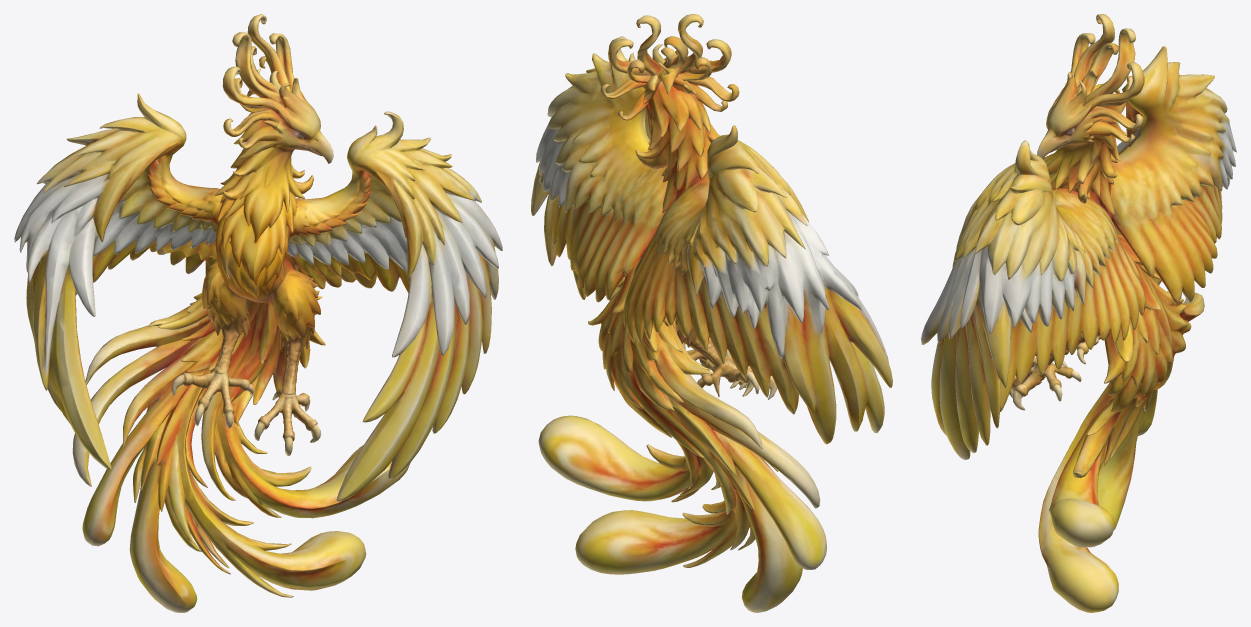
3 views of the same model, side by side, from view 1: azimuth 30°, elevation 25°; view 2: azimuth 150°, elevation 25°; view 3: azimuth 270°, elevation 25° (orthographic). The views are drawn at different scales.
Visible parts, largest first — view 1: Meshy_AI_Silvercrest_Gryphon_20261120_texture; view 2: Meshy_AI_Silvercrest_Gryphon_20261120_texture; view 3: Meshy_AI_Silvercrest_Gryphon_20261120_texture.
Boxes of the visible parts, x1,y1,x2,y2 form: Meshy_AI_Silvercrest_Gryphon_20261120_texture: (14,14,502,612); Meshy_AI_Silvercrest_Gryphon_20261120_texture: (531,14,892,612); Meshy_AI_Silvercrest_Gryphon_20261120_texture: (921,14,1236,612).
Size of the model in its own units: 18.1 by 24.24 by 12.54.
1 material, 1 textured.
